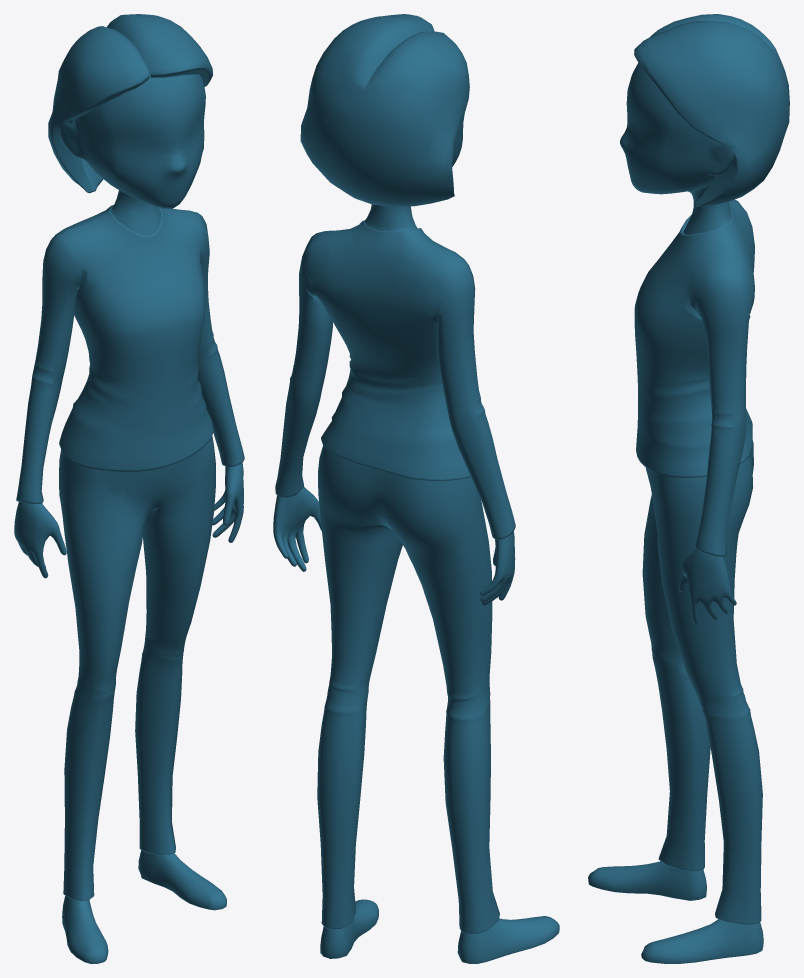
File: human_female.gltf
3 renders of one model, left to right at view 1: azimuth 30°, elevation 25°; view 2: azimuth 150°, elevation 25°; view 3: azimuth 270°, elevation 25°, orthographic. The views are drawn at different scales.
Visible parts, largest first — view 1: Node #0; view 2: Node #0; view 3: Node #0.
Boxes of the visible parts, x1,y1,x2,y2 form: Node #0: [14, 14, 244, 963]; Node #0: [273, 14, 559, 963]; Node #0: [588, 14, 789, 963].
Bounding box in the file's own units: 0.1645 × 0.6154 × 0.1238.
Materials: 1 (1 with a texture image).
